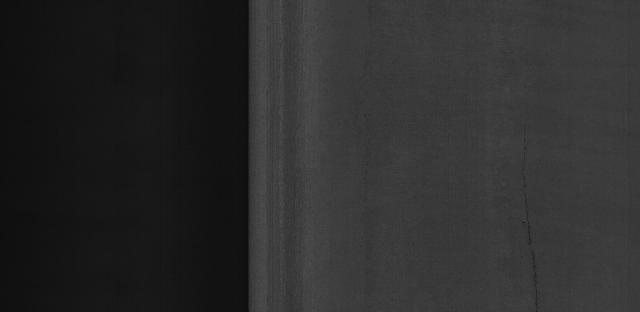inclusion: (516, 108, 546, 311)
